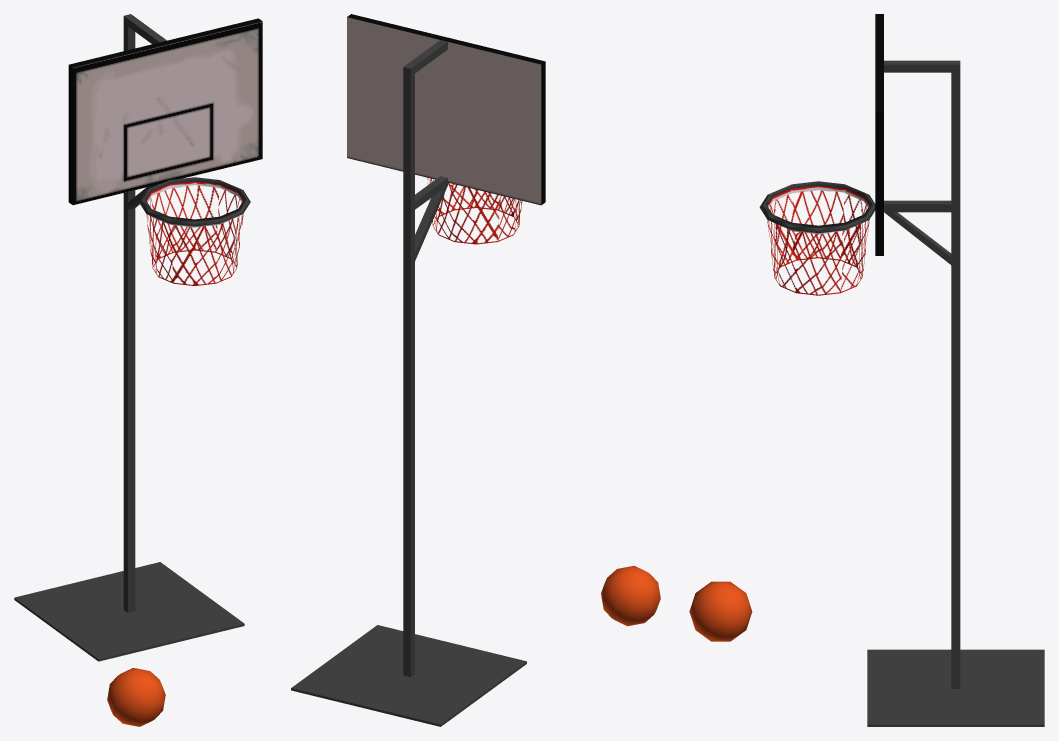
File: basketball_hoop.glb
The picture shows the model from 3 angles, left to right: view 1: azimuth 30°, elevation 25°; view 2: azimuth 150°, elevation 25°; view 3: azimuth 270°, elevation 25°; orthographic projection. The views are drawn at different scales.
Parts seen in each view (by area): view 1: Plane, Plane.001, Cube, Torus.001, Icosphere, Torus, Cube.002; view 2: Plane, Plane.001, Cube, Icosphere, Torus.001, Cube.003; view 3: Plane.001, Cube, Torus.001, Icosphere, Plane, Torus, Cube.002, Cube.001, Cube.003.
Part boxes in pixels (left/top/right/bottom): Plane: left=68, top=18, right=262, bottom=205; Plane.001: left=14, top=562, right=244, bottom=661; Cube: left=123, top=14, right=135, bottom=612; Torus.001: left=146, top=181, right=243, bottom=285; Icosphere: left=107, top=668, right=165, bottom=726; Torus: left=139, top=177, right=250, bottom=226; Cube.002: left=128, top=17, right=166, bottom=44; Plane: left=347, top=14, right=545, bottom=205; Plane.001: left=291, top=625, right=526, bottom=726; Cube: left=403, top=64, right=414, bottom=677; Icosphere: left=601, top=566, right=660, bottom=626; Torus.001: left=427, top=177, right=522, bottom=244; Cube.003: left=415, top=186, right=447, bottom=260; Plane.001: left=867, top=649, right=1044, bottom=726; Cube: left=951, top=60, right=960, bottom=688; Torus.001: left=767, top=186, right=869, bottom=295; Icosphere: left=689, top=581, right=752, bottom=641; Plane: left=875, top=14, right=883, bottom=255; Torus: left=759, top=181, right=875, bottom=233; Cube.002: left=884, top=60, right=951, bottom=72; Cube.001: left=884, top=200, right=951, bottom=212; Cube.003: left=884, top=212, right=951, bottom=264.
Size of the model in its own units: 0.3071 by 0.7855 by 0.4005.
4 materials, 2 textured.
